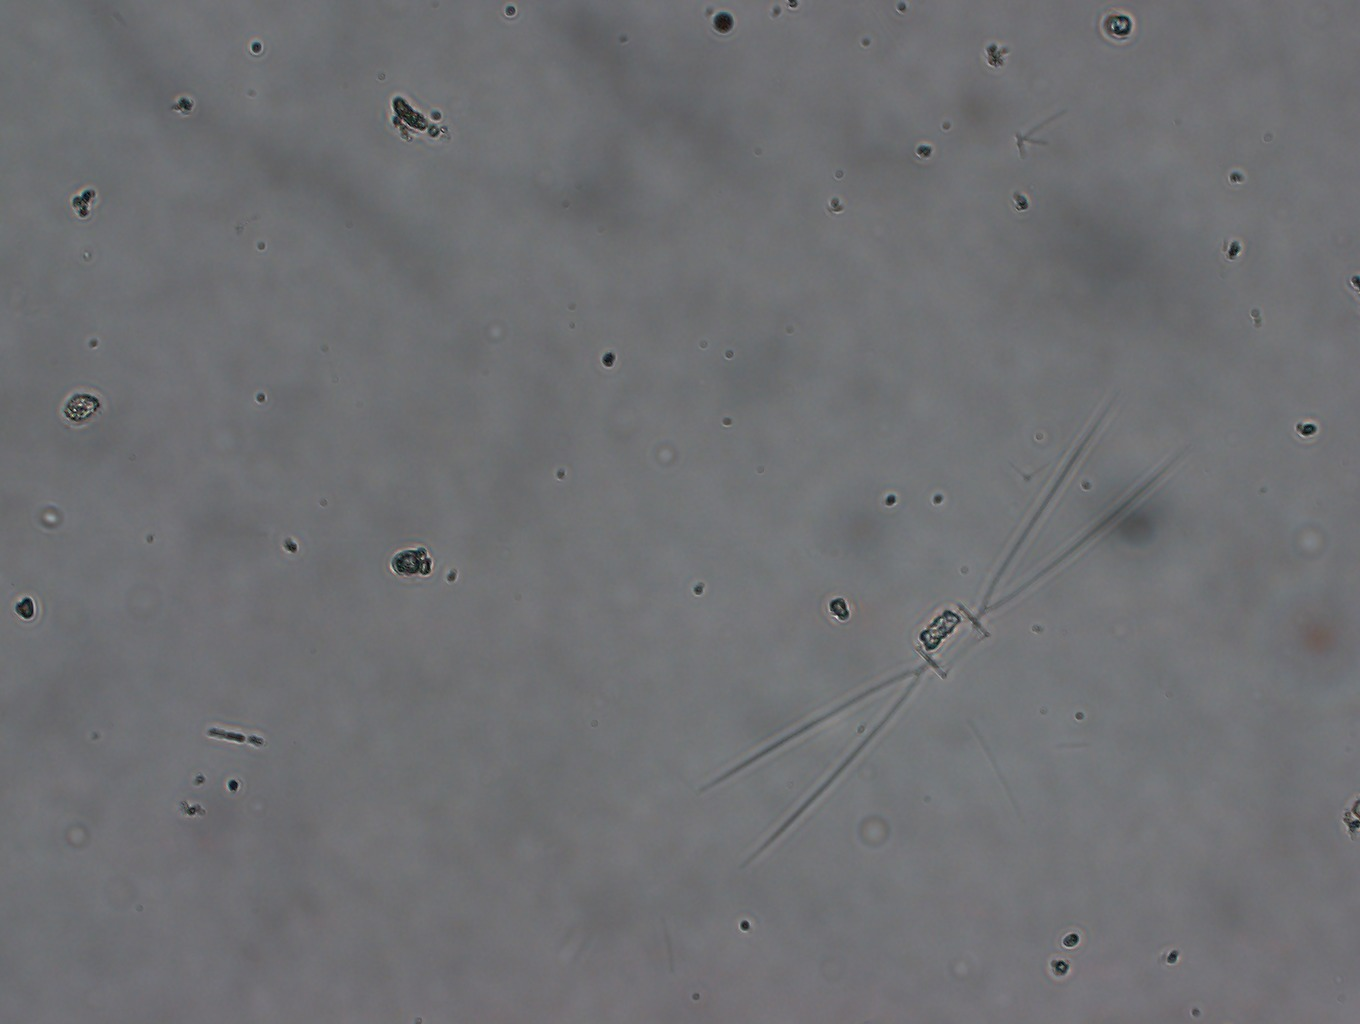chaetoceros: (691, 376, 1186, 881)
